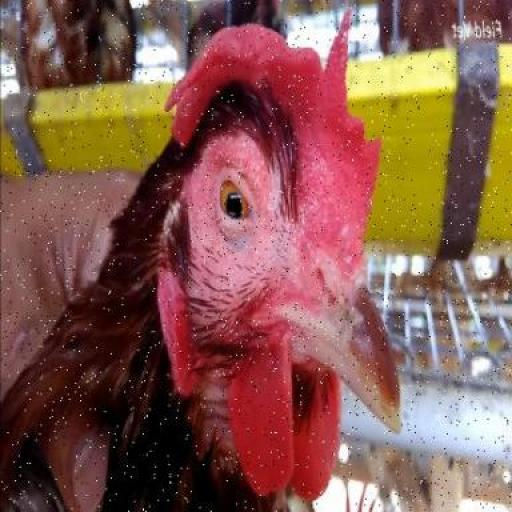disease: (176, 118, 296, 305)
